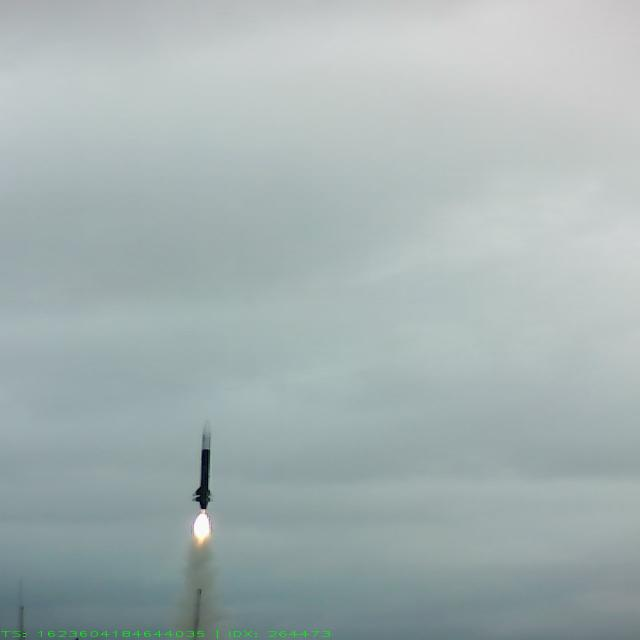Rocket: (190, 418, 214, 510)
